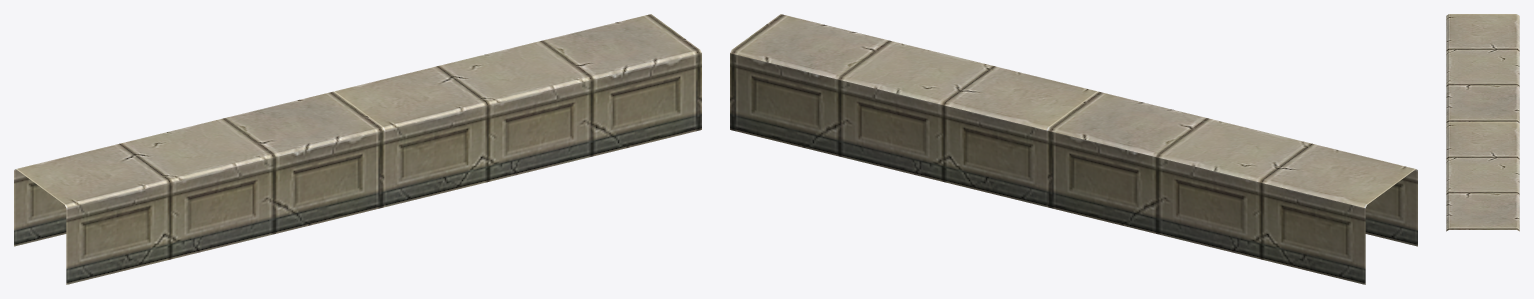
The model's file is Purlin09_Build_LostTemple_002.FBX.
3 views of the same model, side by side, from view 1: azimuth 30°, elevation 25°; view 2: azimuth 150°, elevation 25°; view 3: azimuth 270°, elevation 25° (orthographic). The views are drawn at different scales.
Parts seen in each view (by area): view 1: Purlin09_Build_LostTemple_002; view 2: Purlin09_Build_LostTemple_002; view 3: Purlin09_Build_LostTemple_002.
Boxes of the visible parts, left/top/right/bottom form: Purlin09_Build_LostTemple_002: left=14, top=14, right=701, bottom=284; Purlin09_Build_LostTemple_002: left=730, top=14, right=1417, bottom=284; Purlin09_Build_LostTemple_002: left=1446, top=14, right=1519, bottom=231.
Size of the model in its own units: 697 by 82.69 by 99.58.
